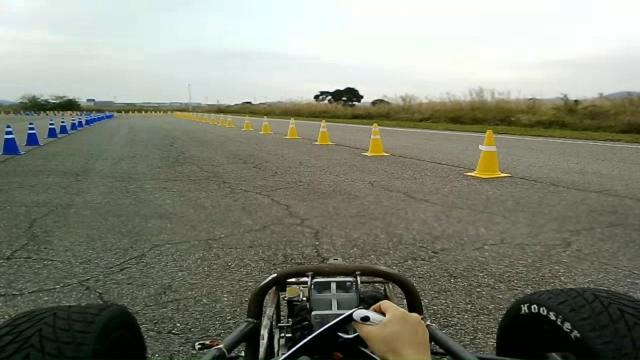blue cone: (0, 124, 25, 155), (21, 121, 42, 147), (43, 119, 60, 139), (57, 117, 71, 134), (69, 116, 78, 131), (84, 114, 93, 126), (94, 113, 104, 122), (76, 119, 84, 129), (104, 112, 114, 119)
yellow cone: (463, 128, 512, 179), (360, 122, 390, 156), (312, 119, 335, 145), (283, 117, 302, 139), (258, 115, 274, 134), (240, 114, 254, 130), (224, 117, 234, 128), (217, 116, 226, 126), (208, 114, 217, 124)
